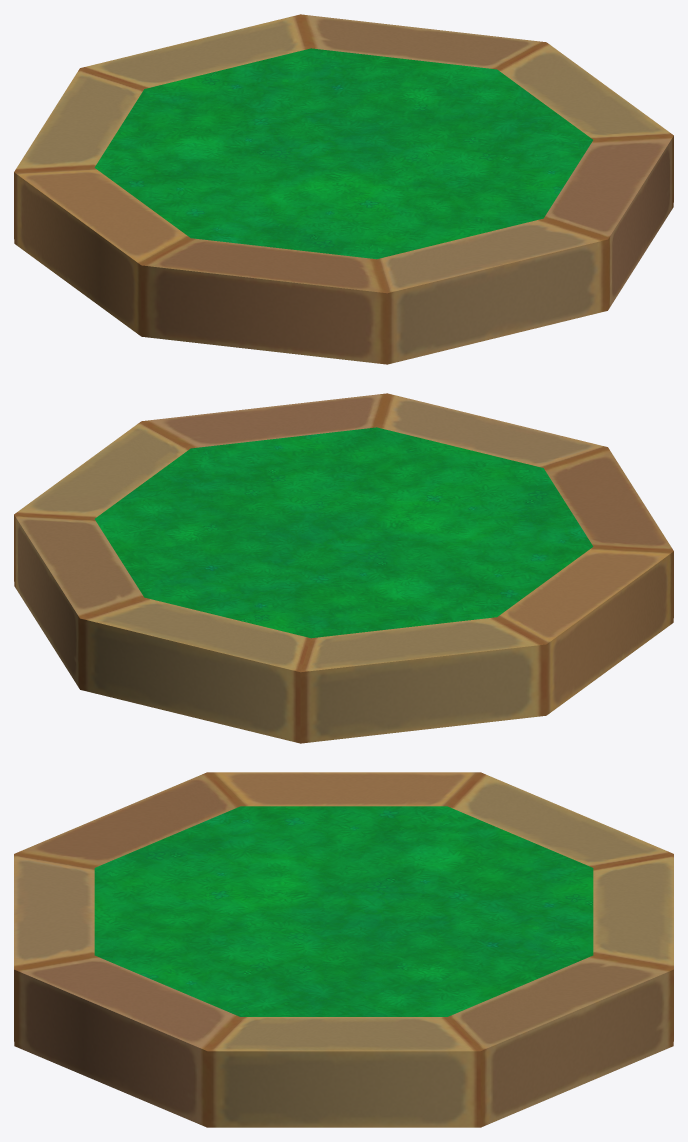
The model's file is Plant06_b01.FBX.
3 renders of one model, top to bottom at view 1: azimuth 30°, elevation 25°; view 2: azimuth 150°, elevation 25°; view 3: azimuth 270°, elevation 25°, orthographic. The views are drawn at different scales.
Parts seen in each view (by area): view 1: Plant06_b01; view 2: Plant06_b01; view 3: Plant06_b01.
Boxes of the visible parts, <box> form: Plant06_b01: <box>14,14,673,364</box>; Plant06_b01: <box>14,393,673,743</box>; Plant06_b01: <box>14,772,673,1127</box>.
Size of the model in its own units: 209 by 26.79 by 209.
2 materials, 2 textured.
